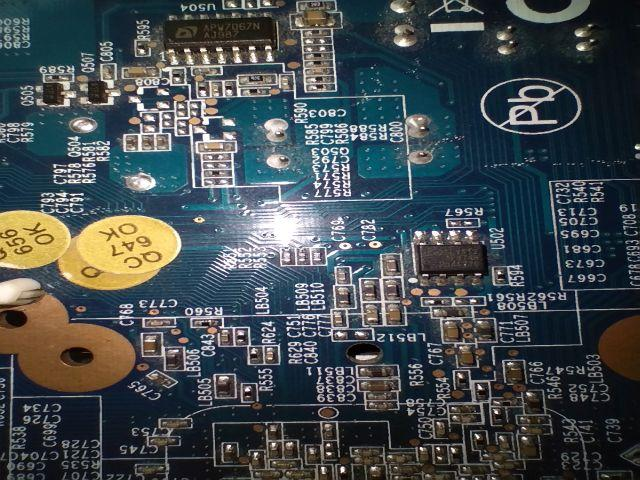capacitor: (376, 247, 408, 281), (136, 327, 164, 359), (499, 358, 530, 386)
resistor: (238, 377, 260, 408)
